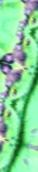Tomato leaf bacterial spot: (0, 45, 38, 127)
